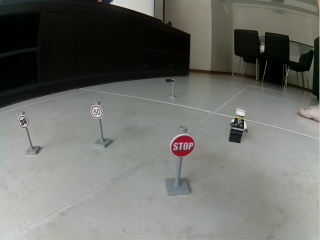Green Traffic Light: (163, 77, 176, 100)
Person: (227, 108, 250, 146)
Speed Limit 30: (18, 116, 29, 128)
Speed Limit 50: (90, 105, 103, 119)
Stop Sign: (170, 134, 195, 158)
